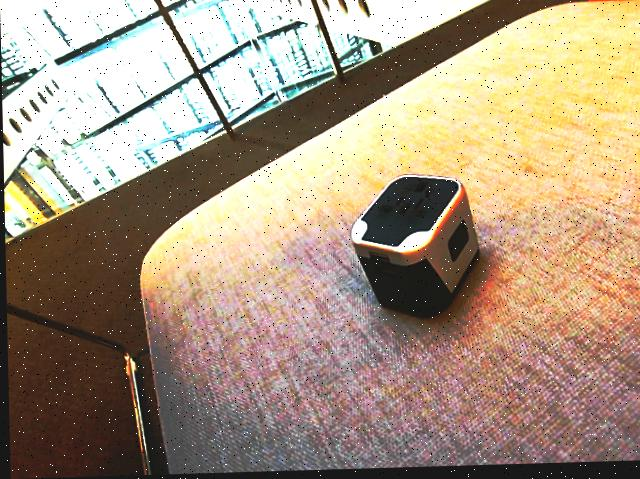adapter: (348, 174, 479, 322)
